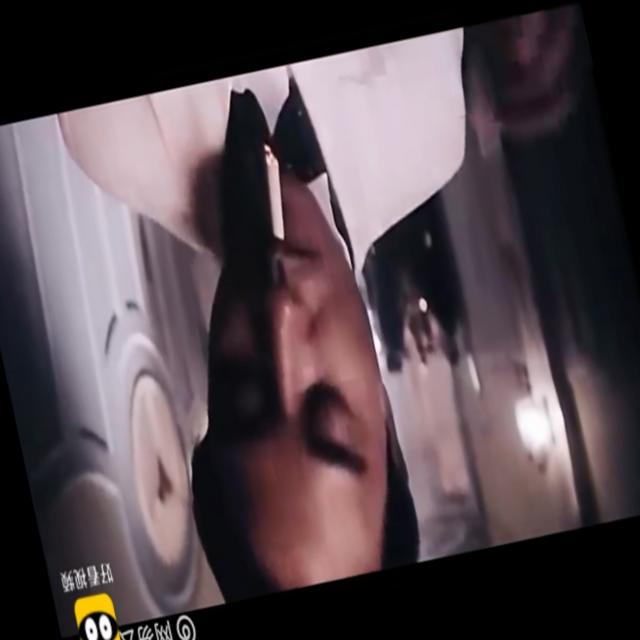cigarette: (252, 141, 304, 238)
